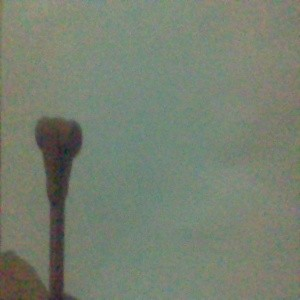palu: (33, 116, 83, 300)
